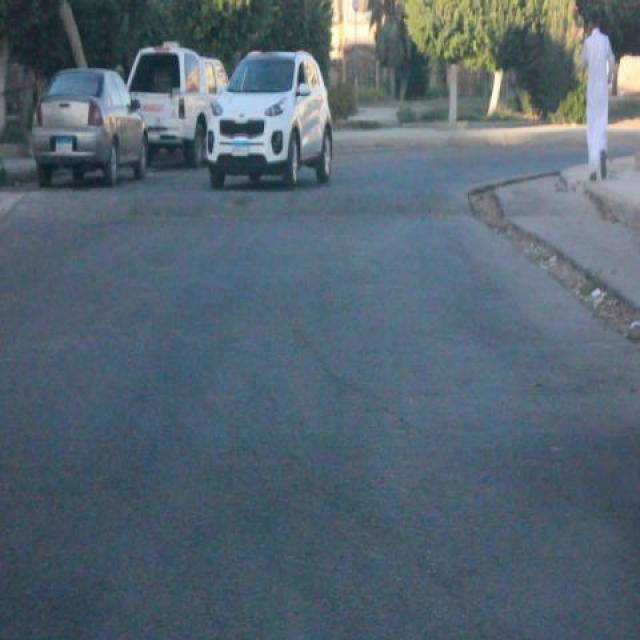Unmarked Bump: (16, 186, 471, 220)
